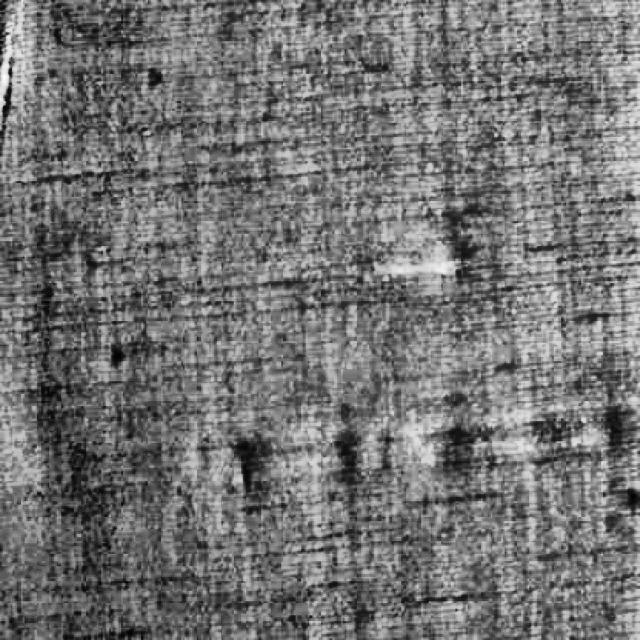thread_error: (365, 236, 485, 290), (0, 0, 26, 136)
